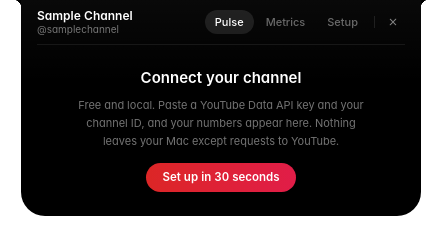
Test: messages and onboarding › walks a new user from the welcome card to the Setup field
Click the button with test id "start-setup-btn" at [221, 177], box [146, 163, 296, 192]
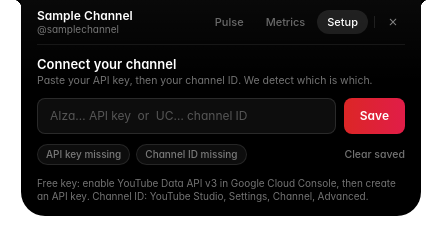
Now the password field named "Secret Value" is shown, box [37, 98, 336, 134]
Now the text "API key missing" is shown, box [37, 144, 130, 165]
Now the text "Channel ID missing" is shown, box [136, 144, 246, 165]
